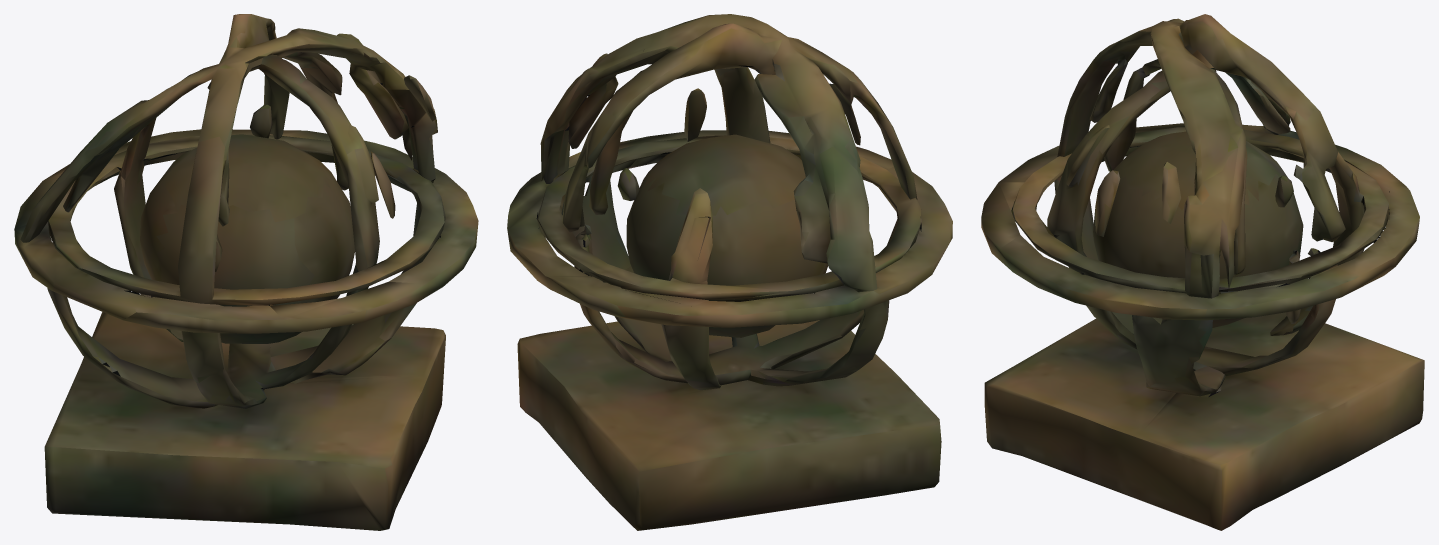
File: weathered-bronze-armillary-v001.glb
The picture shows the model from 3 angles, left to right: view 1: azimuth 30°, elevation 25°; view 2: azimuth 150°, elevation 25°; view 3: azimuth 270°, elevation 25°; orthographic projection. The views are drawn at different scales.
Visible parts, largest first — view 1: weathered-bronze-armillary; view 2: weathered-bronze-armillary; view 3: weathered-bronze-armillary.
Part boxes in pixels (bbox=[...]): weathered-bronze-armillary: bbox=[14, 14, 478, 530]; weathered-bronze-armillary: bbox=[507, 14, 952, 530]; weathered-bronze-armillary: bbox=[981, 14, 1424, 530].
Size of the model in its own units: 1.4 by 1.42 by 1.36.
Materials: 1 (1 with a texture image).
